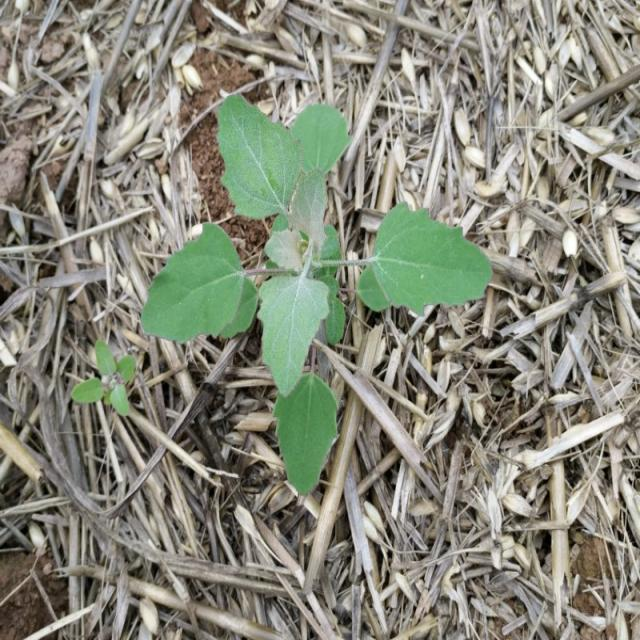ca: (218, 94, 347, 493)
